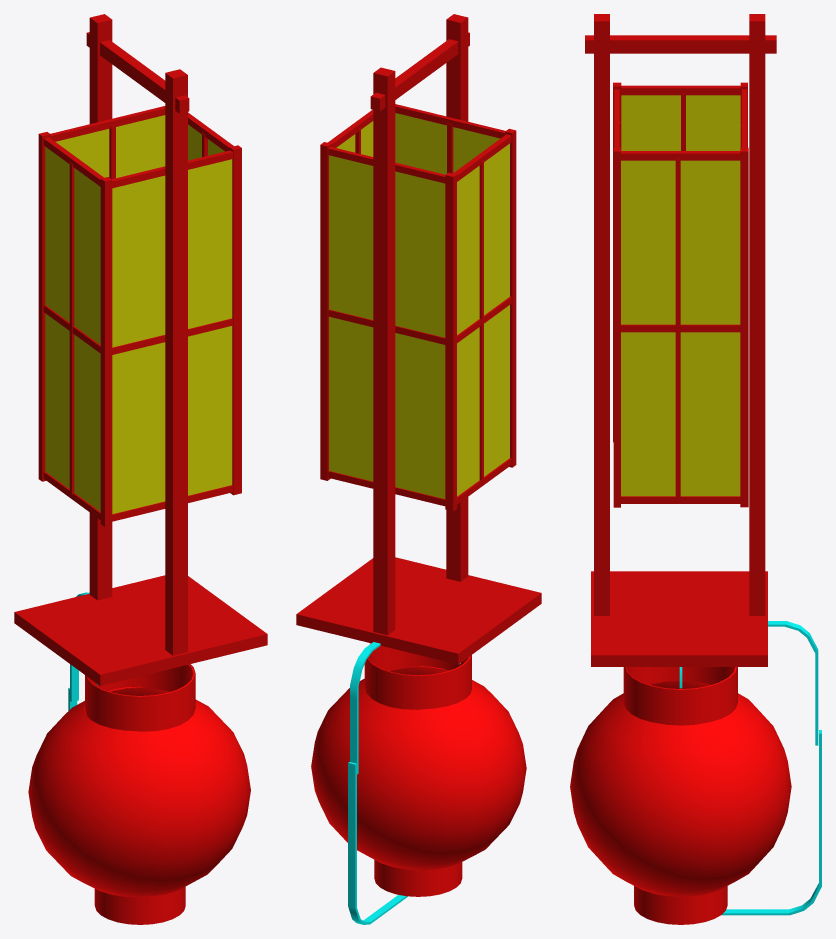
Rendered from Lanters.fbx.
3 views of the same model, side by side, from view 1: azimuth 30°, elevation 25°; view 2: azimuth 150°, elevation 25°; view 3: azimuth 270°, elevation 25° (orthographic). The views are drawn at different scales.
Visible parts, largest first — view 1: LanternA, LanternB; view 2: LanternA, LanternB; view 3: LanternA, LanternB.
Part boxes in pixels (x1=…): LanternA: x1=14, y1=14, x2=267, y2=685; LanternB: x1=28, y1=592, x2=250, y2=924; LanternA: x1=296, y1=14, x2=541, y2=664; LanternB: x1=311, y1=642, x2=526, y2=924; LanternA: x1=585, y1=14, x2=776, y2=666; LanternB: x1=570, y1=621, x2=821, y2=924.
Size of the model in its own units: 39.99 by 170 by 43.44.
